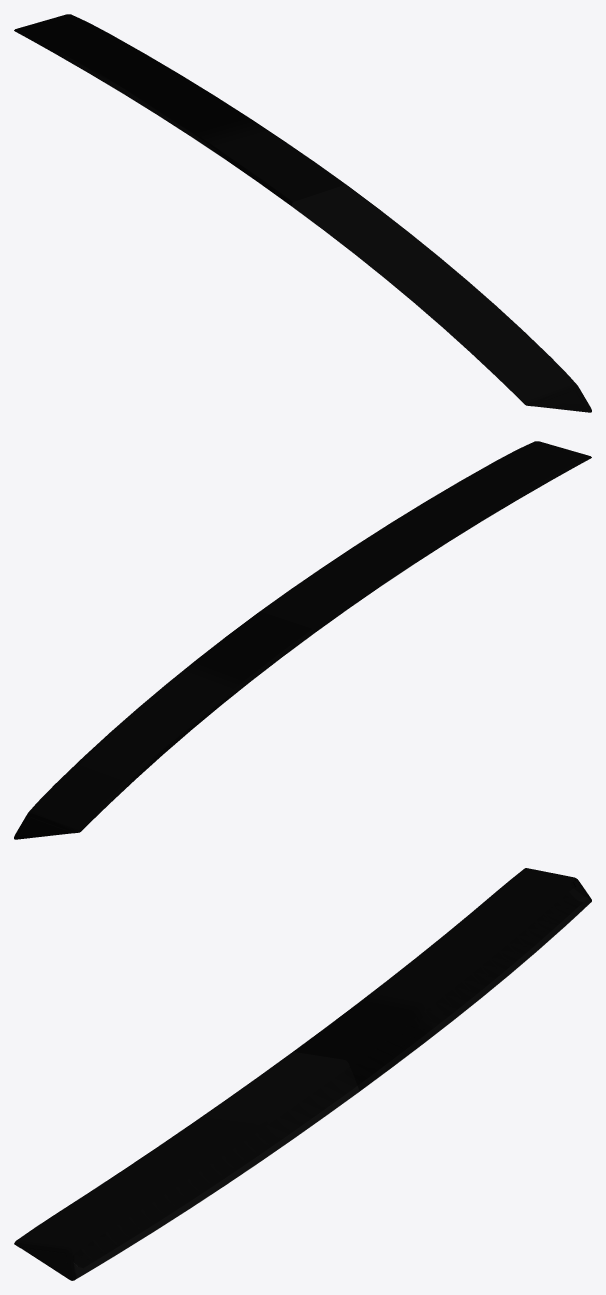
File: Lightbar.glb
3 renders of one model, top to bottom at view 1: azimuth 30°, elevation 25°; view 2: azimuth 150°, elevation 25°; view 3: azimuth 330°, elevation 25°, orthographic.
Visible parts, largest first — view 1: Lightbar2; view 2: Lightbar2; view 3: Lightbar2, Lightbar_Illumination2.
Part boxes in pixels (box(x1,y1,x2,y2)): Lightbar2: box(14, 14, 591, 412); Lightbar2: box(14, 441, 591, 839); Lightbar2: box(14, 868, 591, 1280); Lightbar_Illumination2: box(73, 892, 582, 1267).
Size of the model in its own units: 0.1442 by 0.0529 by 1.45.
Materials: 5 (1 with a texture image).
